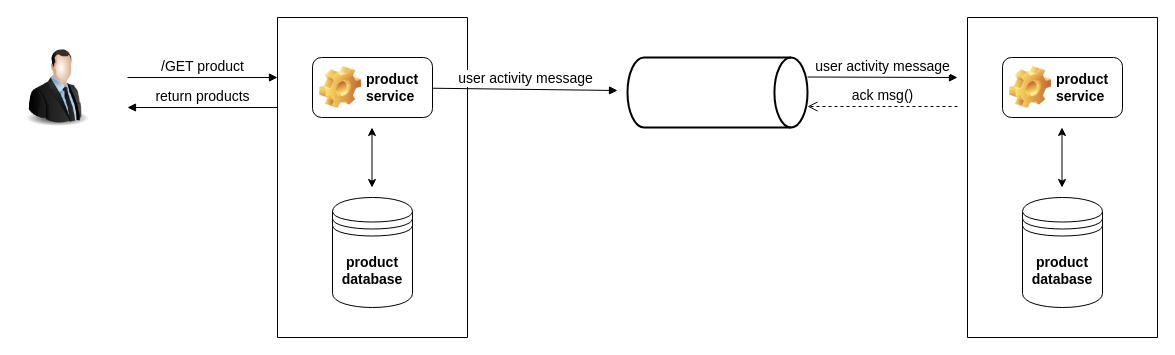
Image size: 1175x355. Some labels were removed from this diagram. Each missing label, with the centre of its shape:
"Message Queue" goes at (x=717, y=92).
"User" goes at (x=57, y=87).
